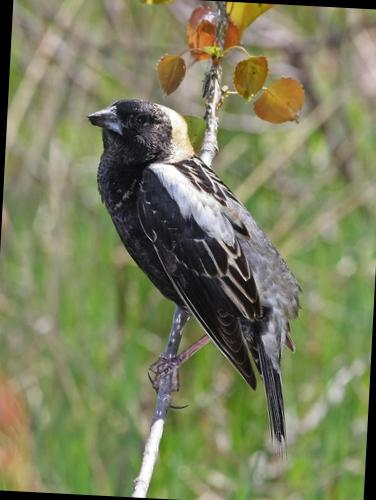bird: (55, 86, 321, 464)
